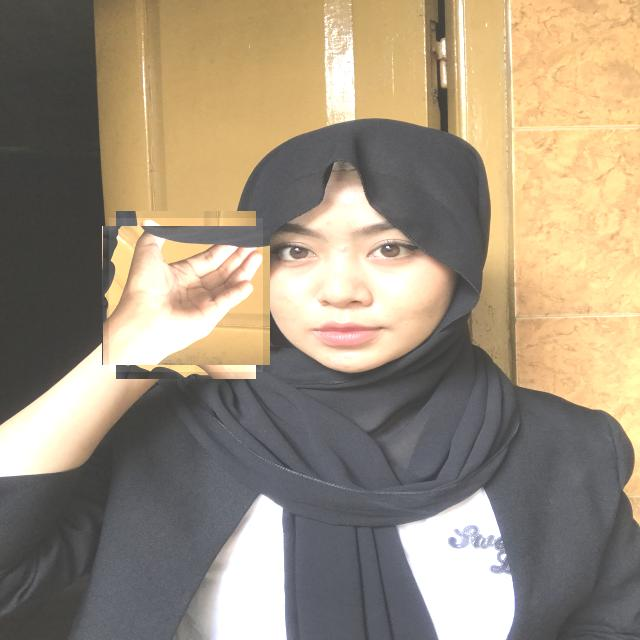mendengar: (109, 218, 263, 372)
